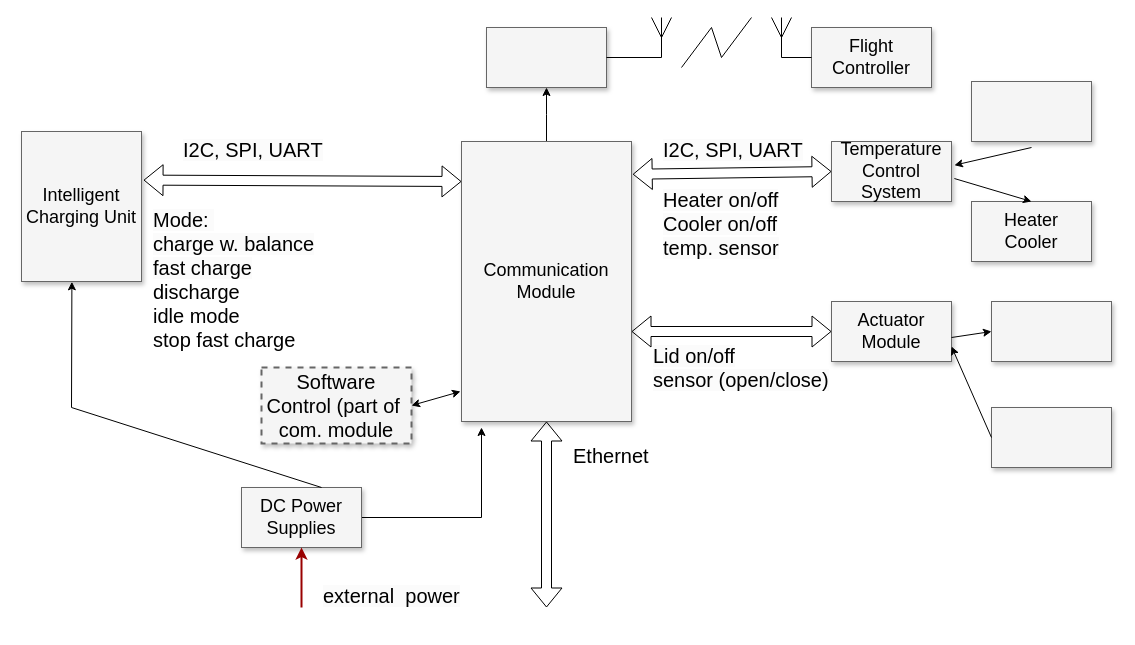
Image size: 1135x645. Some labels were removed from this diagram. Here are the shapes that lost their labels. From the top down, the centre of each, then its label:
At pixel 547 58: "BT".
At pixel 1032 112: "Sensors".
At pixel 1052 332: "Servo".
At pixel 1052 438: "Sensor".
